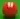red: (0, 0, 20, 19)
